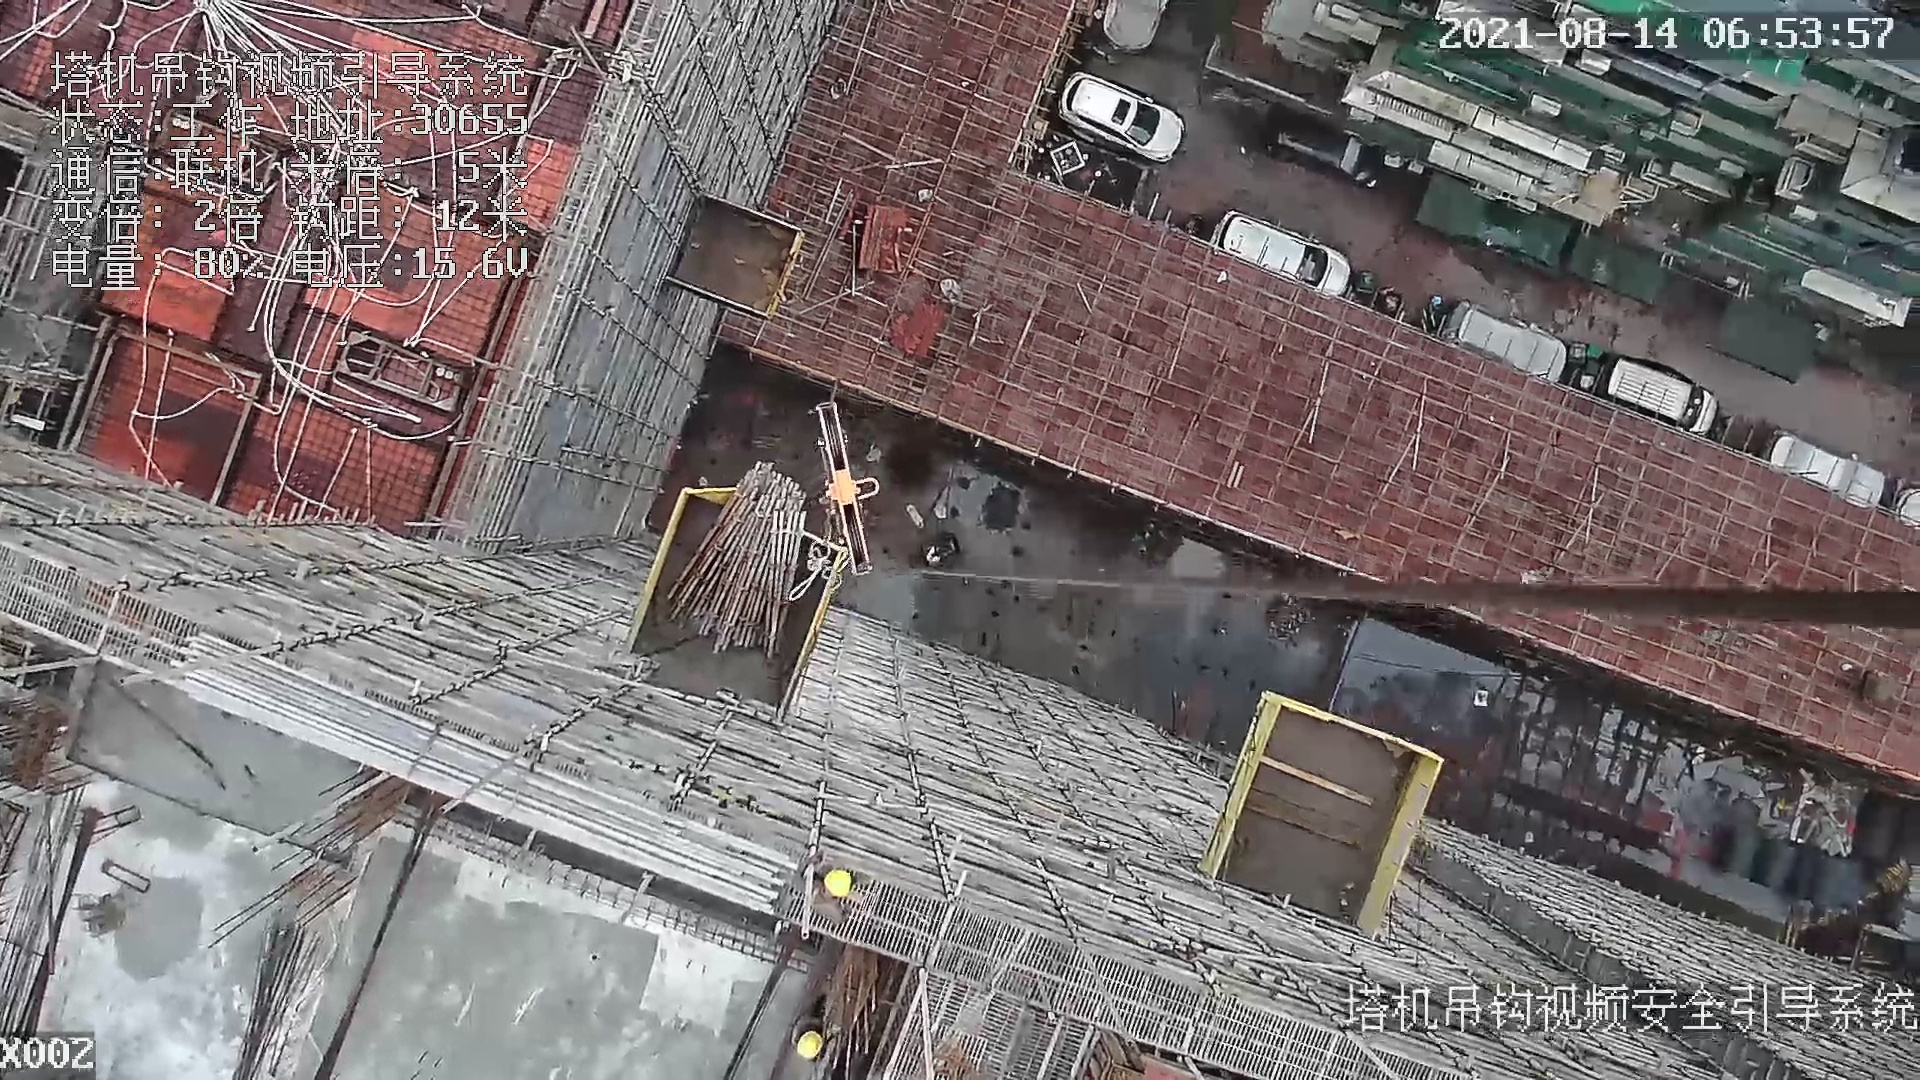helmet: (823, 869, 852, 897), (796, 1031, 823, 1060)
hook: (810, 397, 890, 580)
person: (794, 855, 865, 931), (787, 1004, 840, 1071)
rebar: (173, 629, 792, 922), (219, 923, 327, 1080)
scaffold: (665, 461, 807, 660)
